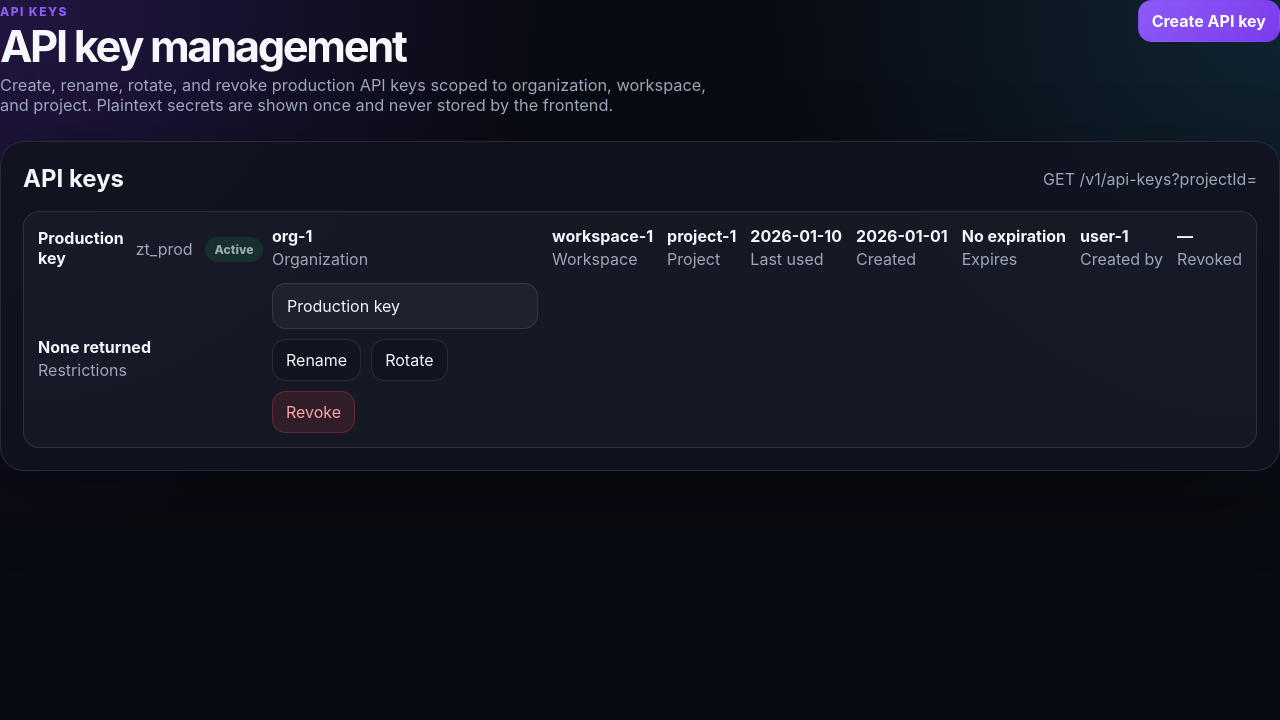
Test: ApiPortal production API-key UX › copies the one-time key with temporary copied state
Click the button "Create API key": point(1209, 21) [1138,0,1279,42]
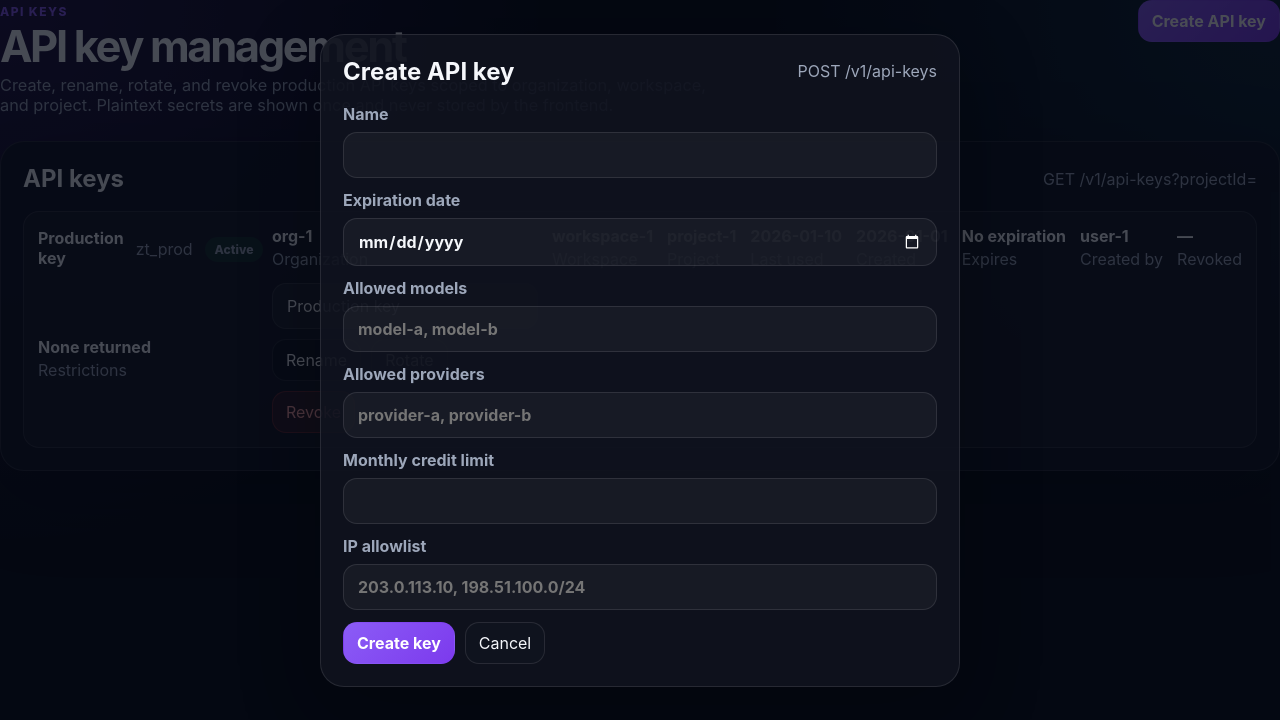
In the field named "Key name": point(640, 154) [343,132,937,178], type "Copy key"
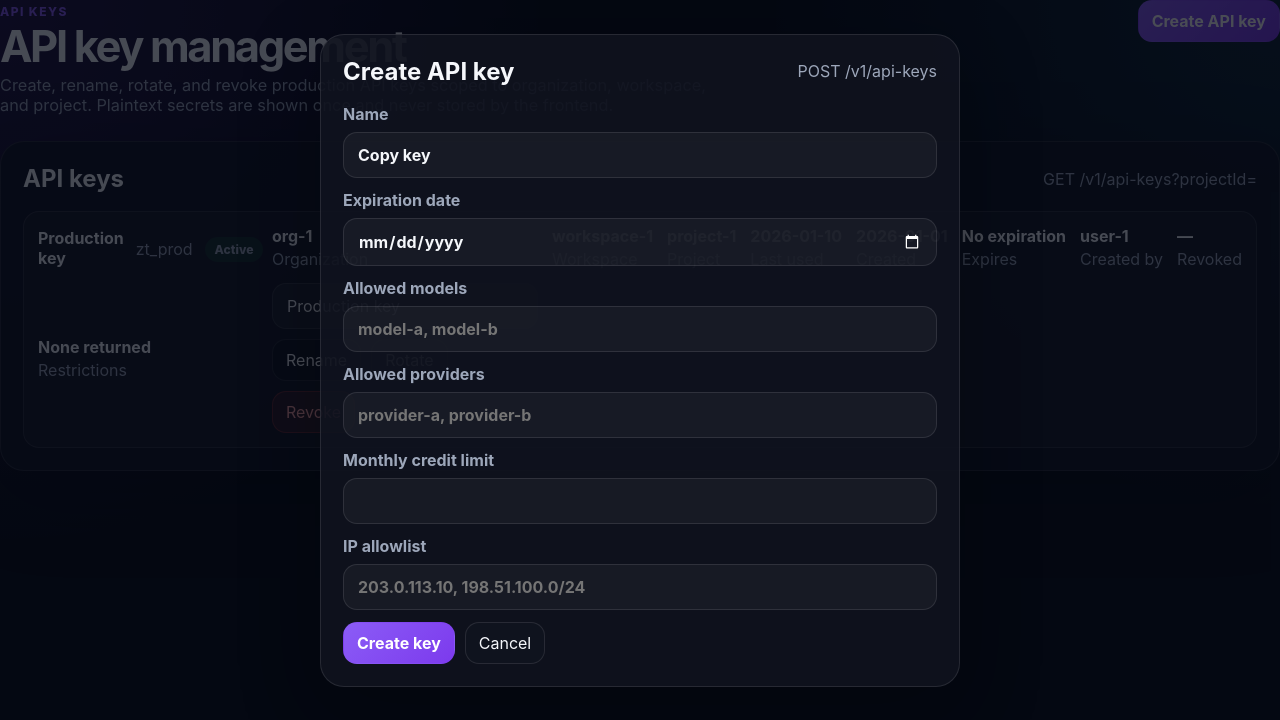
Click the button "Create key": point(399, 642) [343,622,455,664]
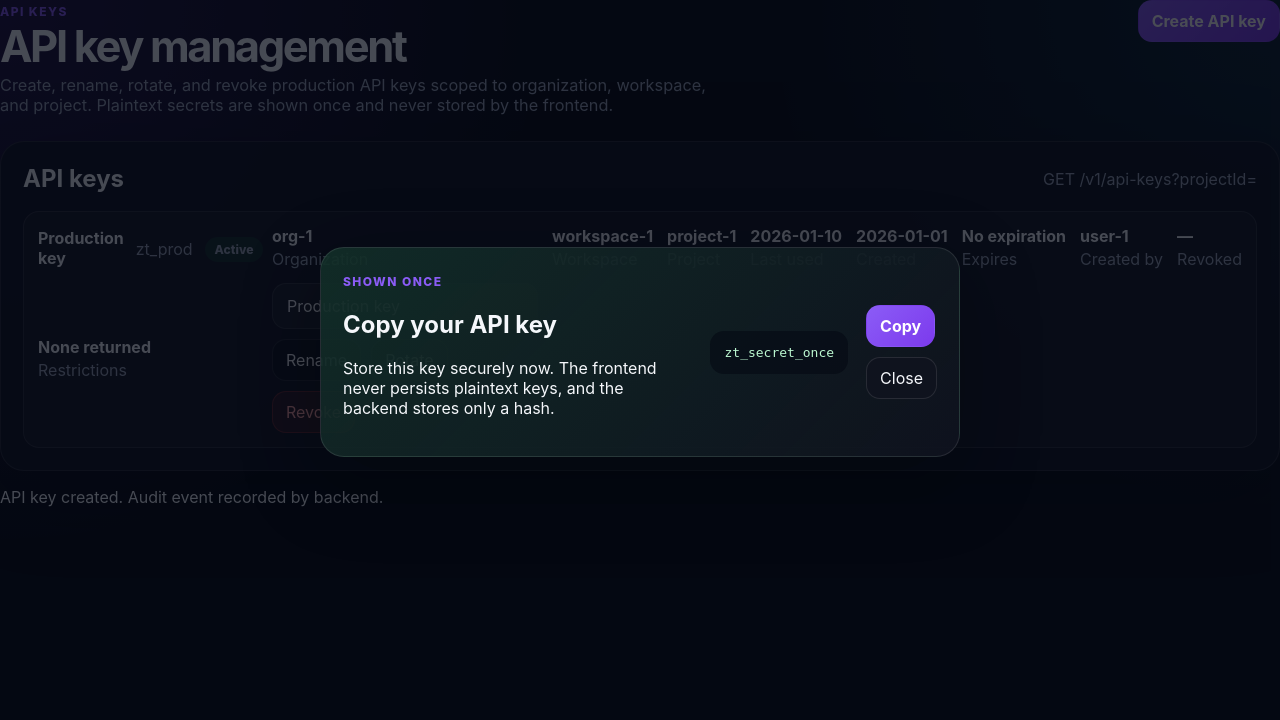
Result: the text "zt_secret_once" is shown at [710,330,848,374]
Click the button "Copy": point(901, 326) [866,305,935,347]
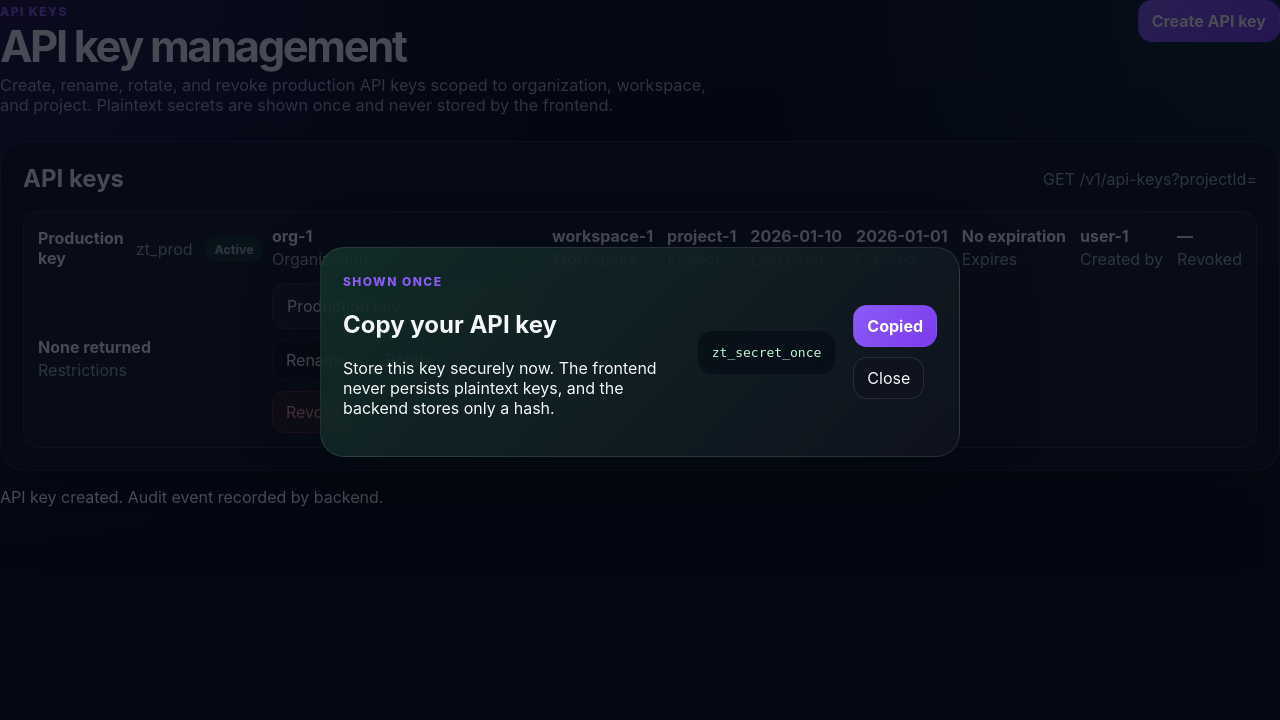
Result: the button "Copied" is shown at [853,305,937,347]
